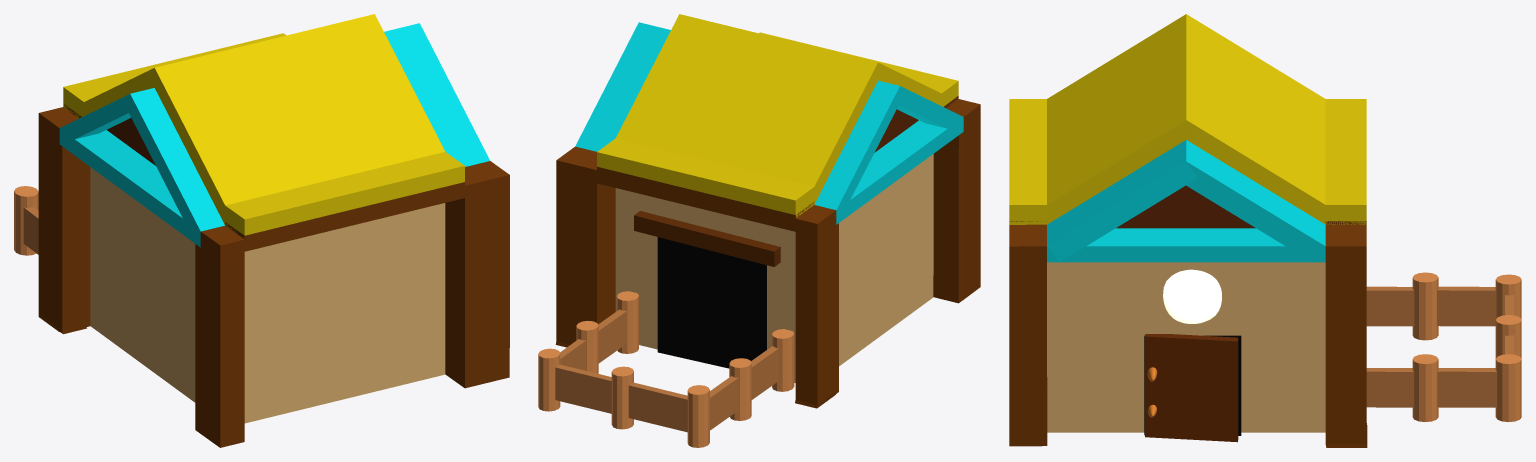
File: Ferme.fbx
3 views of the same model, side by side, from view 1: azimuth 30°, elevation 25°; view 2: azimuth 150°, elevation 25°; view 3: azimuth 270°, elevation 25° (orthographic). The views are drawn at different scales.
Parts seen in each view (by area): view 1: Cube.006; view 2: Cube.006; view 3: Cube.006, Cube.001, Cube.004.
Boxes of the visible parts, left/top/right/bottom form: Cube.006: left=14, top=14, right=509, bottom=447; Cube.006: left=538, top=14, right=980, bottom=447; Cube.006: left=1009, top=14, right=1521, bottom=447; Cube.001: left=1145, top=334, right=1238, bottom=442; Cube.004: left=1144, top=335, right=1241, bottom=435.
Bounding box in the file's own units: 333 × 340 × 514.
